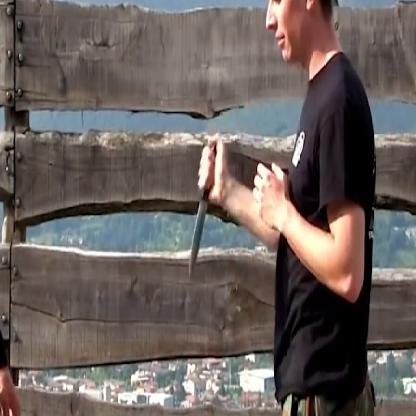knife: (185, 127, 227, 286)
